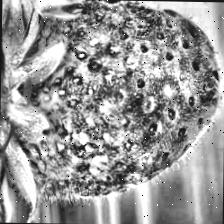Powdery Mildew Fruit: (0, 0, 221, 203)
